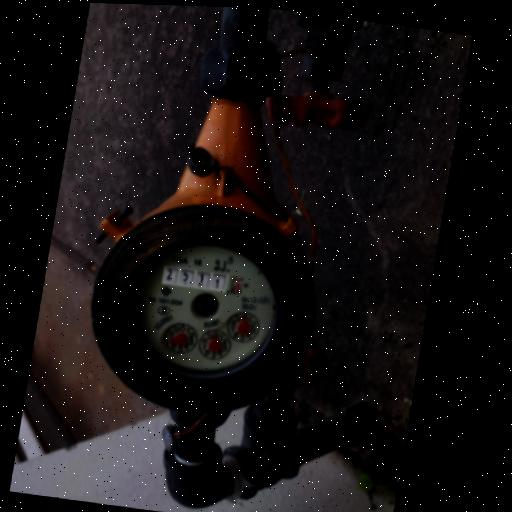1: (213, 274, 227, 290), (196, 272, 210, 287)
2: (164, 268, 178, 283)
4: (230, 277, 243, 294)
5: (180, 270, 194, 285)
border_water_meter_number: (160, 266, 246, 295)
